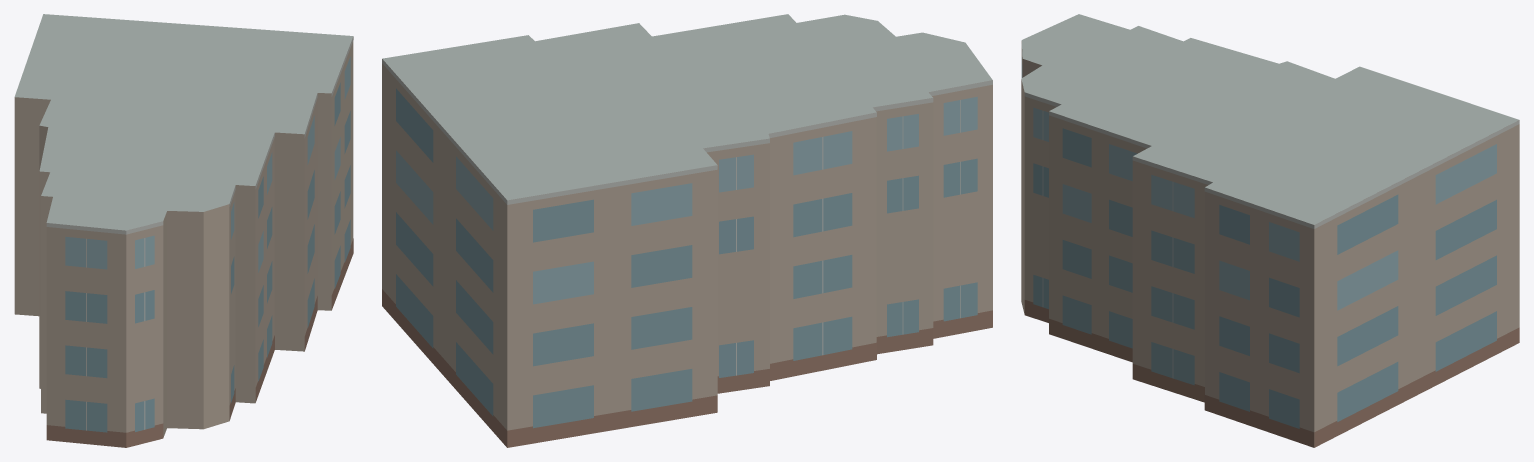
Rendered from survey-upis-32658475.glb.
3 views of the same model, side by side, from view 1: azimuth 30°, elevation 25°; view 2: azimuth 150°, elevation 25°; view 3: azimuth 270°, elevation 25° (orthographic). The views are drawn at different scales.
Visible parts, largest first — view 1: survey-upis-32658475.tmp; view 2: survey-upis-32658475.tmp; view 3: survey-upis-32658475.tmp.
Part boxes in pixels (x1,y1,x2,y2): survey-upis-32658475.tmp: (14, 14, 353, 447); survey-upis-32658475.tmp: (382, 14, 992, 447); survey-upis-32658475.tmp: (1021, 14, 1519, 447).
Bounding box in the file's own units: 26.81 × 13.2 × 26.75.
